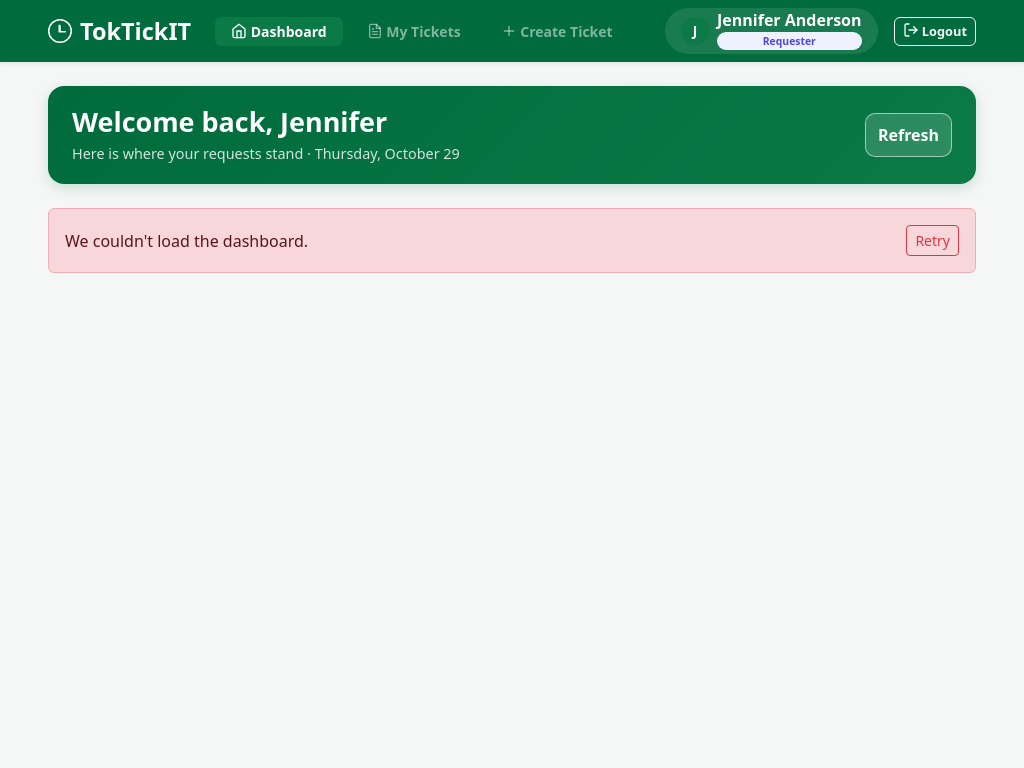
it: Lab 2 UI Tests (Issue 3 & Issue 5 - Development Requester & Create Ticket) › UI-02: Renders Create Ticket form and loads option dropdowns
Check: the text "Jennifer Anderson" is shown, box [717,12,862,28]
Check: the button "Logout" is shown, box [894,17,976,46]
Step 1. Click the button "My Tickets" → (414, 31), box [351,17,477,46]
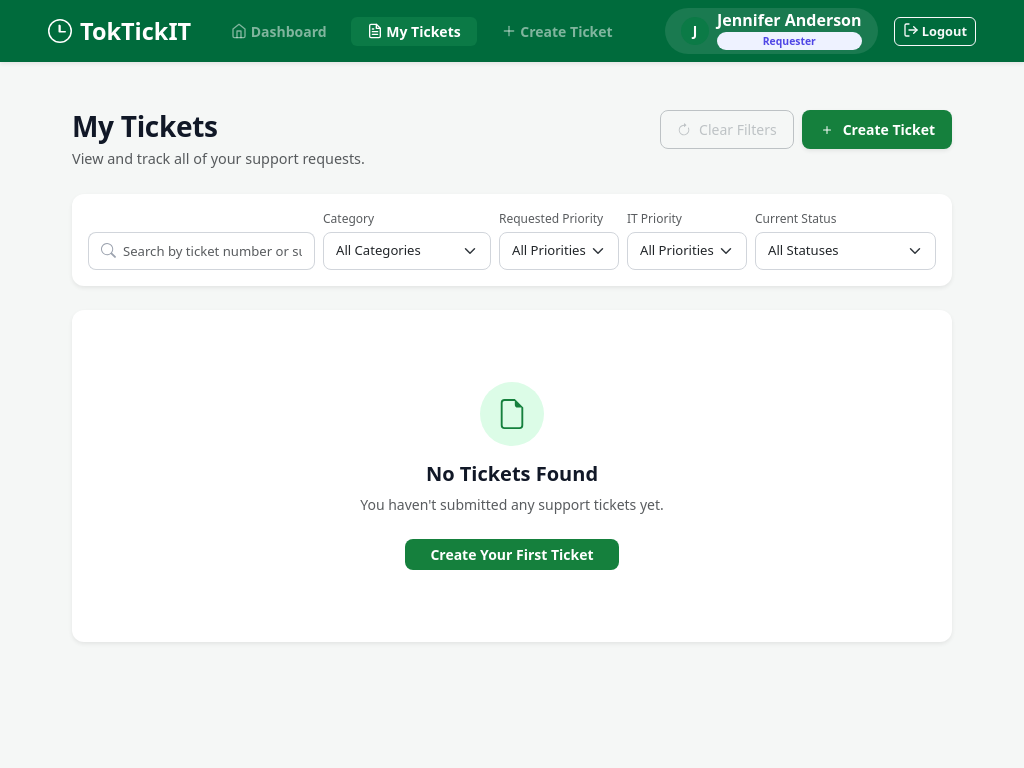
Check: the 2nd button "Create Ticket" is shown
Step 2. Click the 2nd button "Create Ticket" → (877, 130), box [802,110,952,149]
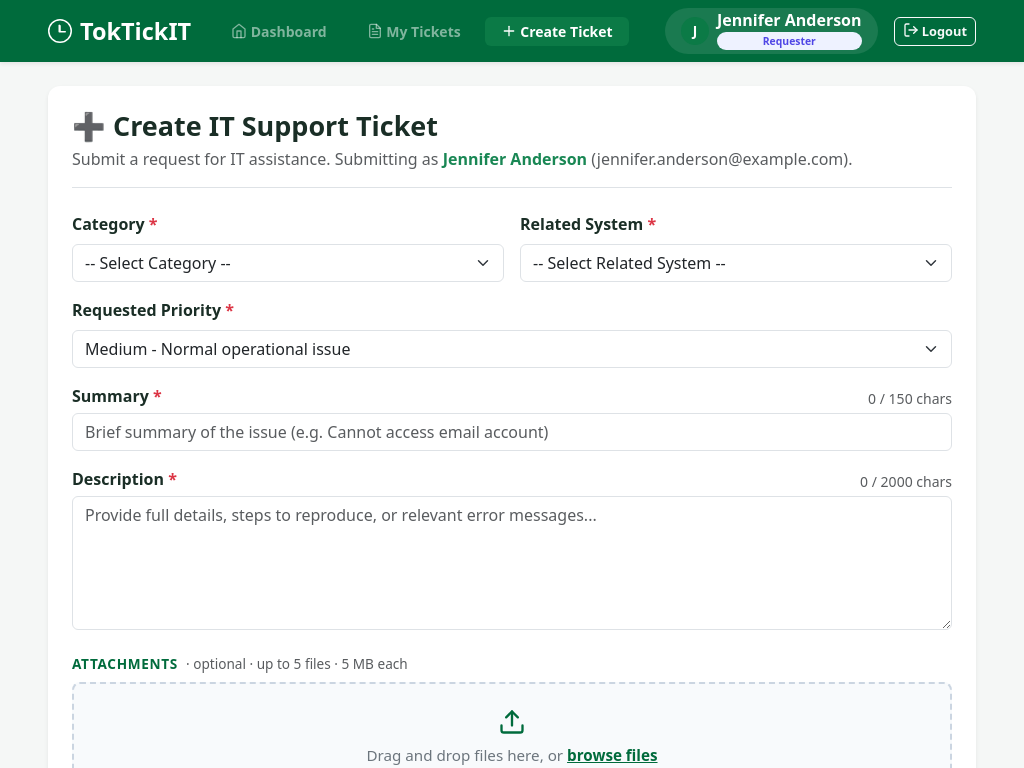
Check: the heading "➕ Create IT Support Ticket" is shown, box [72,107,438,144]
Check: the dropdown labelled "Category *" is shown, box [72,244,504,282]
Check: the dropdown labelled "Related System *" is shown, box [520,244,952,282]
